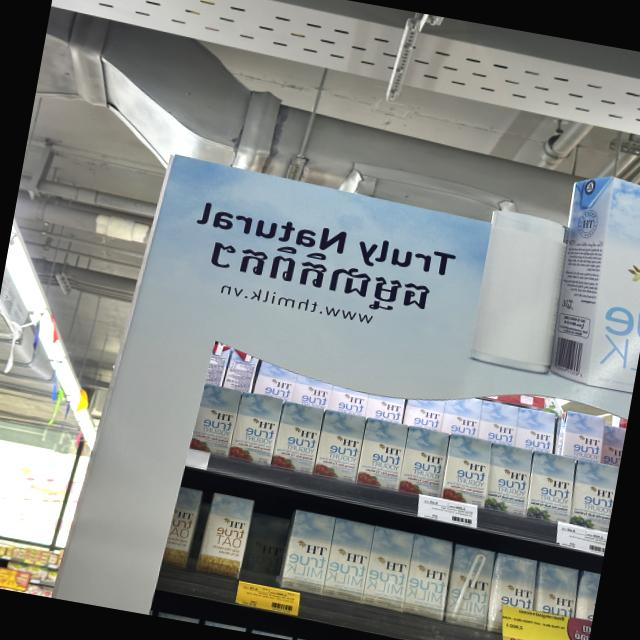Yolov11_80vkh: (193, 231, 447, 322)
